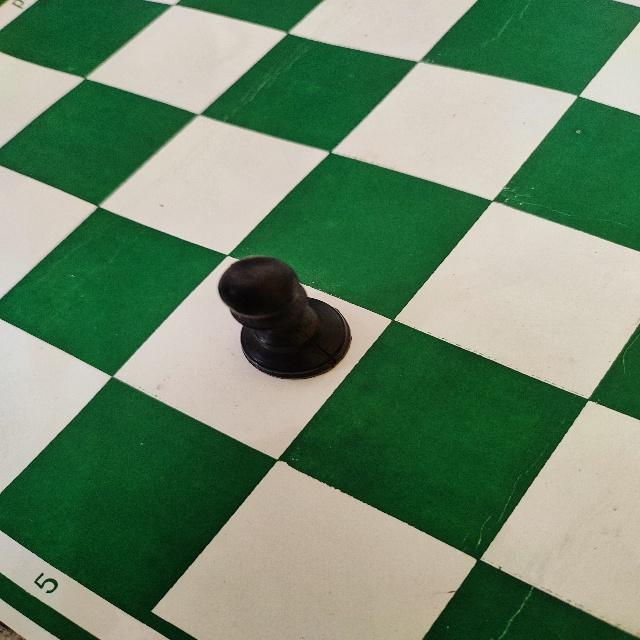Pawn: (214, 253, 357, 385)
